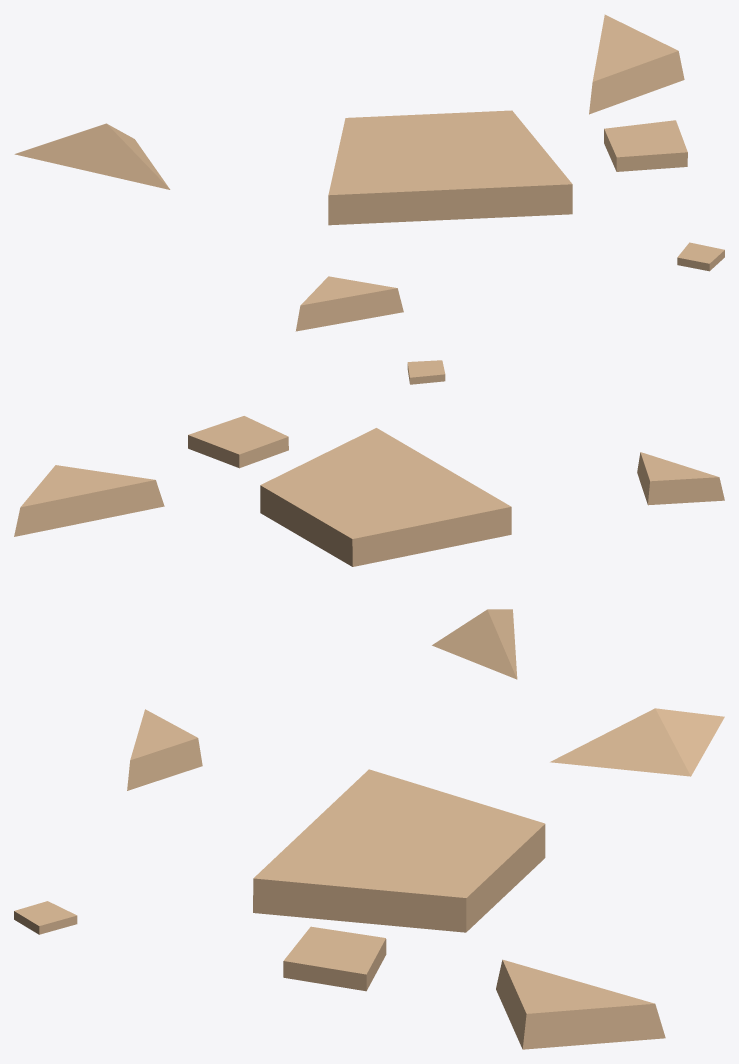
Rendered from Rocks_Flat_s_01.fbx.
3 renders of one model, top to bottom at view 1: azimuth 30°, elevation 25°; view 2: azimuth 150°, elevation 25°; view 3: azimuth 270°, elevation 25°, orthographic. The views are drawn at different scales.
Parts seen in each view (by area): view 1: Rocks_Flat_s_01; view 2: Rocks_Flat_s_01; view 3: Rocks_Flat_s_01.
Boxes of the visible parts, bbox=[...] form: Rocks_Flat_s_01: bbox=[14, 14, 724, 331]; Rocks_Flat_s_01: bbox=[14, 360, 724, 679]; Rocks_Flat_s_01: bbox=[14, 708, 724, 1049].
Size of the model in its own units: 64.48 by 4.39 by 58.96.
